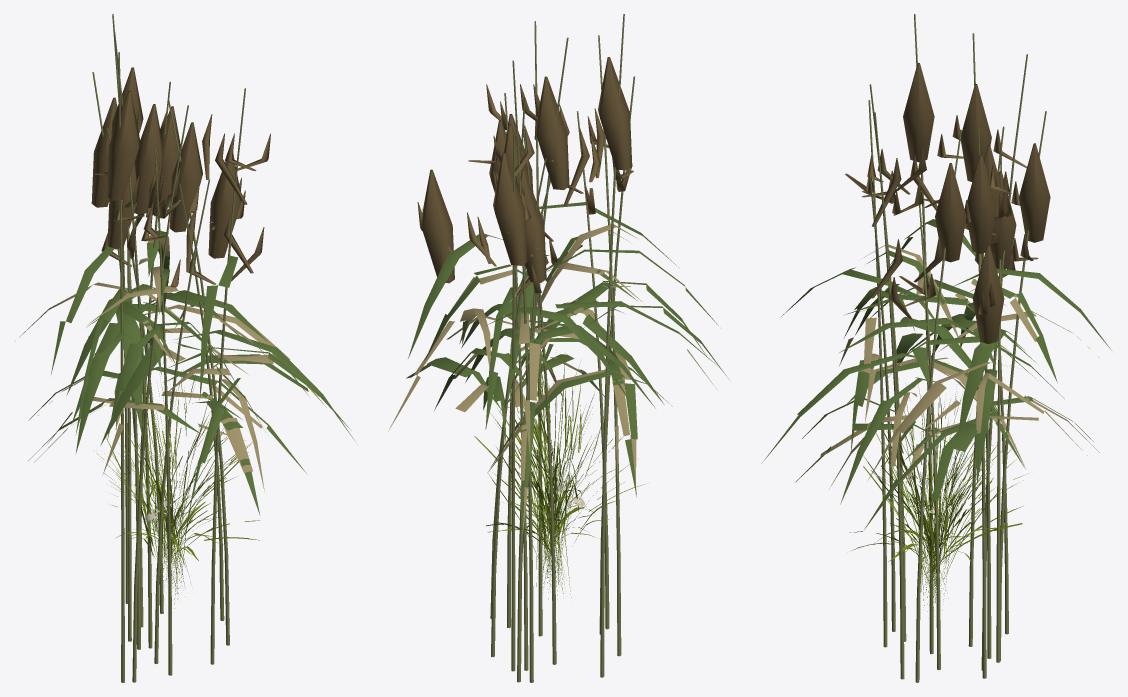
File: vegetation_09.glb
3 renders of one model, left to right at view 1: azimuth 30°, elevation 25°; view 2: azimuth 150°, elevation 25°; view 3: azimuth 270°, elevation 25°, orthographic. The views are drawn at different scales.
Parts seen in each view (by area): view 1: prototype_072, prototype_073, prototype_076, prototype_079, prototype_074, prototype_075; view 2: prototype_072, prototype_073, prototype_076, prototype_079, prototype_074, prototype_075; view 3: prototype_073, prototype_072, prototype_076, prototype_079, prototype_074, prototype_075.
Boxes of the visible parts, x1,y1,x2,y2 form: prototype_072: (19,14,306,682); prototype_073: (66,31,355,675); prototype_076: (94,387,259,608); prototype_079: (124,371,249,601); prototype_074: (115,463,226,564); prototype_075: (127,490,212,567); prototype_072: (425,14,718,682); prototype_073: (388,21,728,682); prototype_076: (474,392,645,599); prototype_079: (510,350,602,599); prototype_074: (518,456,615,559); prototype_075: (487,473,592,548); prototype_073: (761,33,1111,682); prototype_072: (795,14,1099,670); prototype_076: (849,412,1028,611); prototype_079: (876,385,992,605); prototype_074: (888,470,974,568); prototype_075: (872,495,981,564).
Bounding box in the file's own units: 1.49 × 3.23 × 1.64.
Materials: 10 (6 with a texture image).
